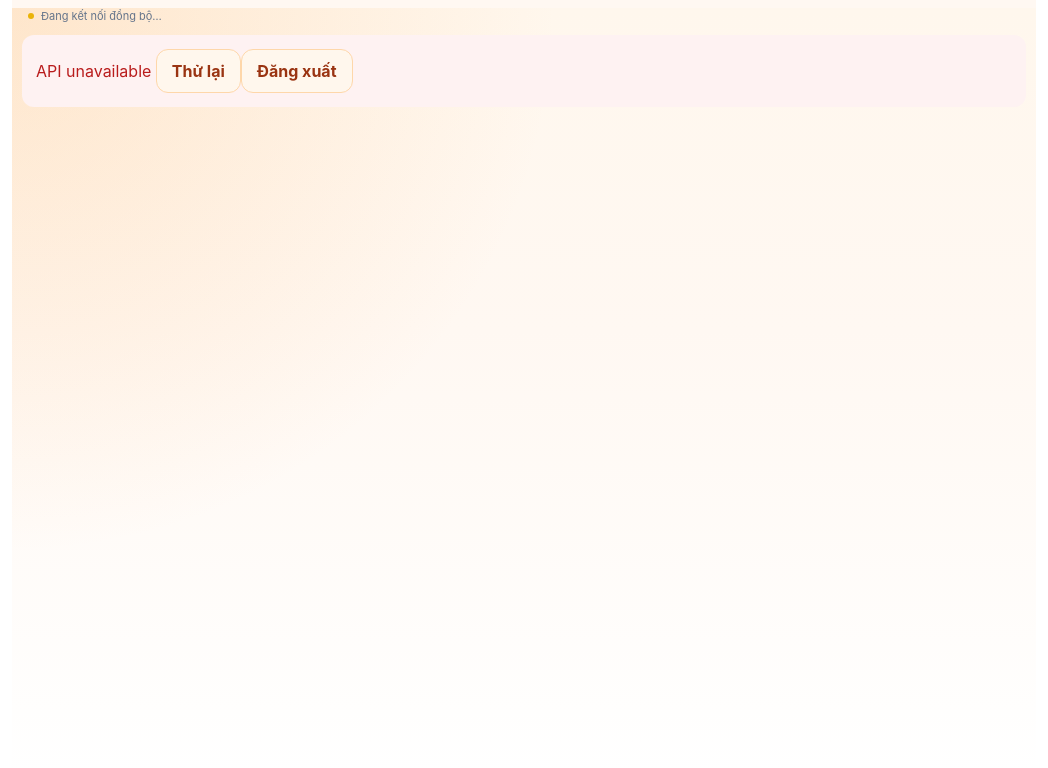
Test case: API portal screens › shows a retryable error and never falls back to demo data
Expected: the message shows "API unavailable", x1=36 y1=60 x2=151 y2=80
Expected: the text "API User" is not shown
Click the button "Thử lại" at [198, 70], box x1=156 y1=48 x2=241 y2=92
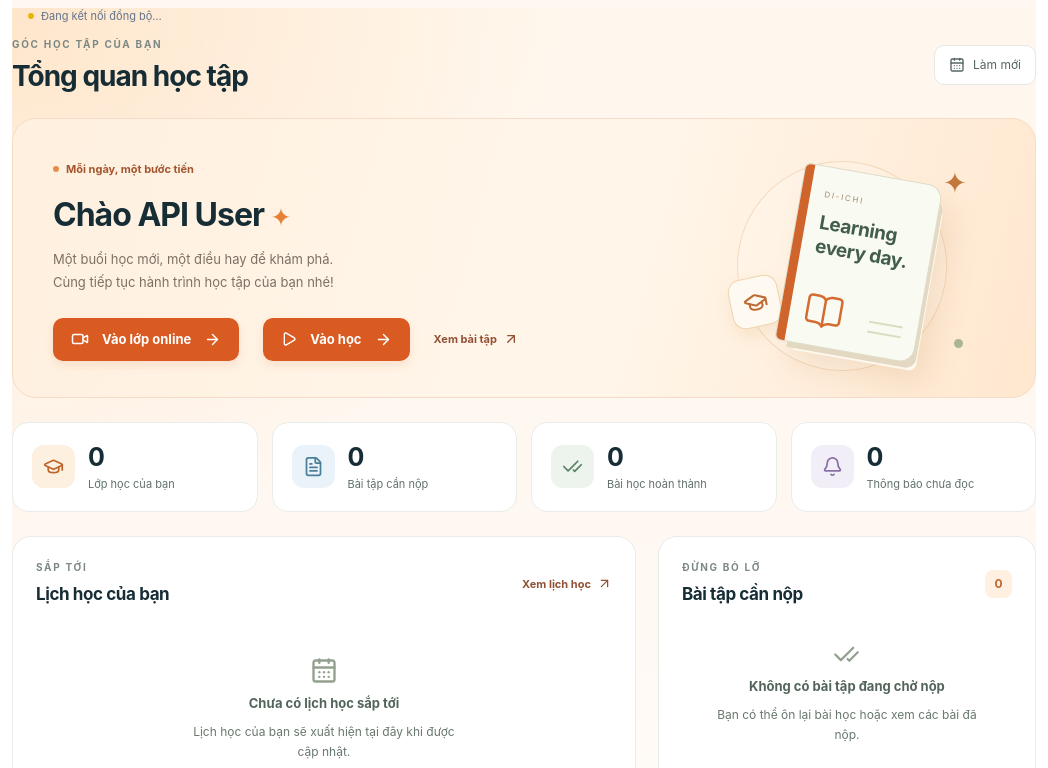
Now the heading "Tổng quan học tập" is shown, box x1=12 y1=58 x2=248 y2=94
